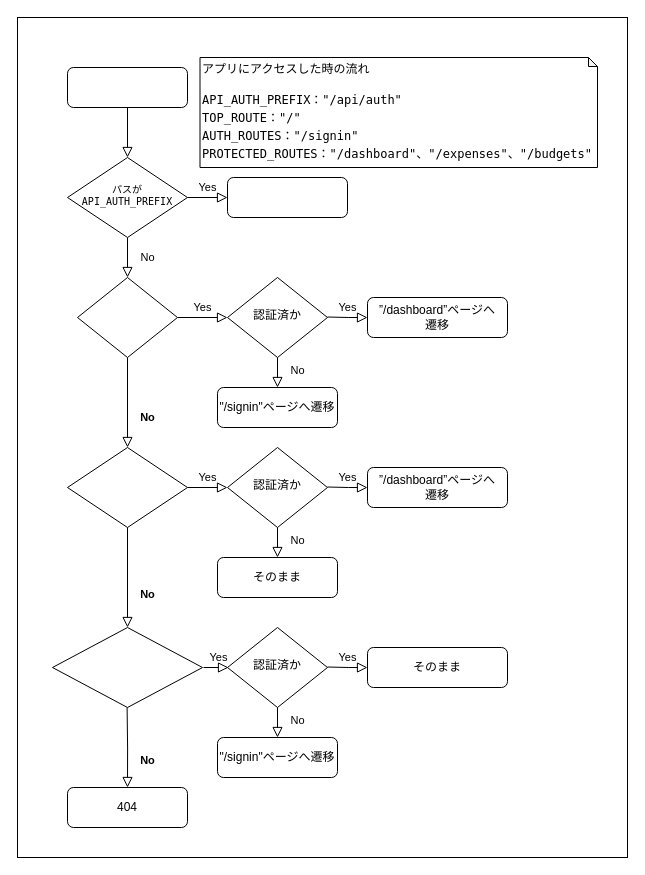
This 645x875 diagram has some shape labels left out. The box of each missing label's shape, as (x1, y1, x2, y2) in pixels:
authの処理を行う: (226, 176, 348, 218)
アプリにアクセス: (66, 66, 188, 108)
パスが AUTH_ROUTES: (66, 446, 188, 528)
パスが PROTECTED_ROUTES: (52, 626, 202, 708)
パスが TOP_ROUTE: (76, 276, 178, 358)
